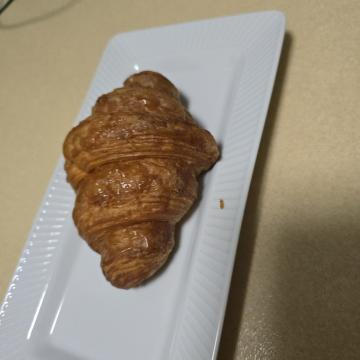croissant: (61, 131, 301, 306)
